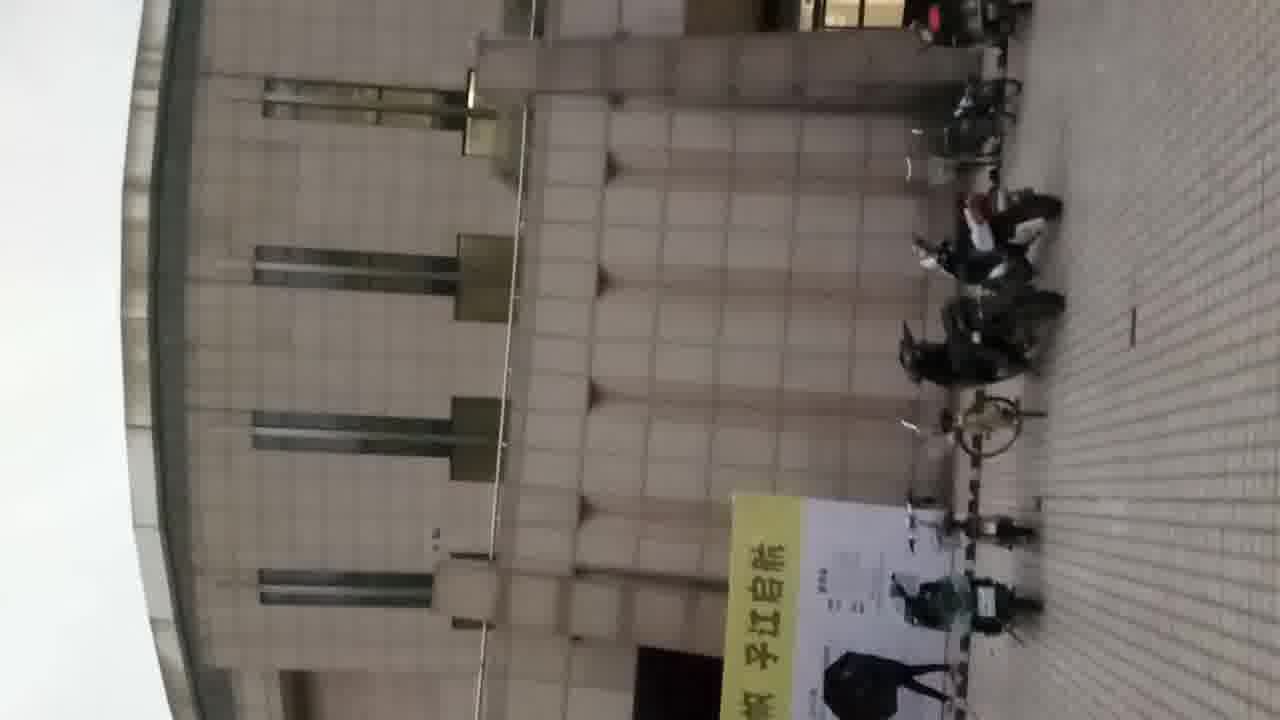zhongtiww: (108, 10, 973, 720)
